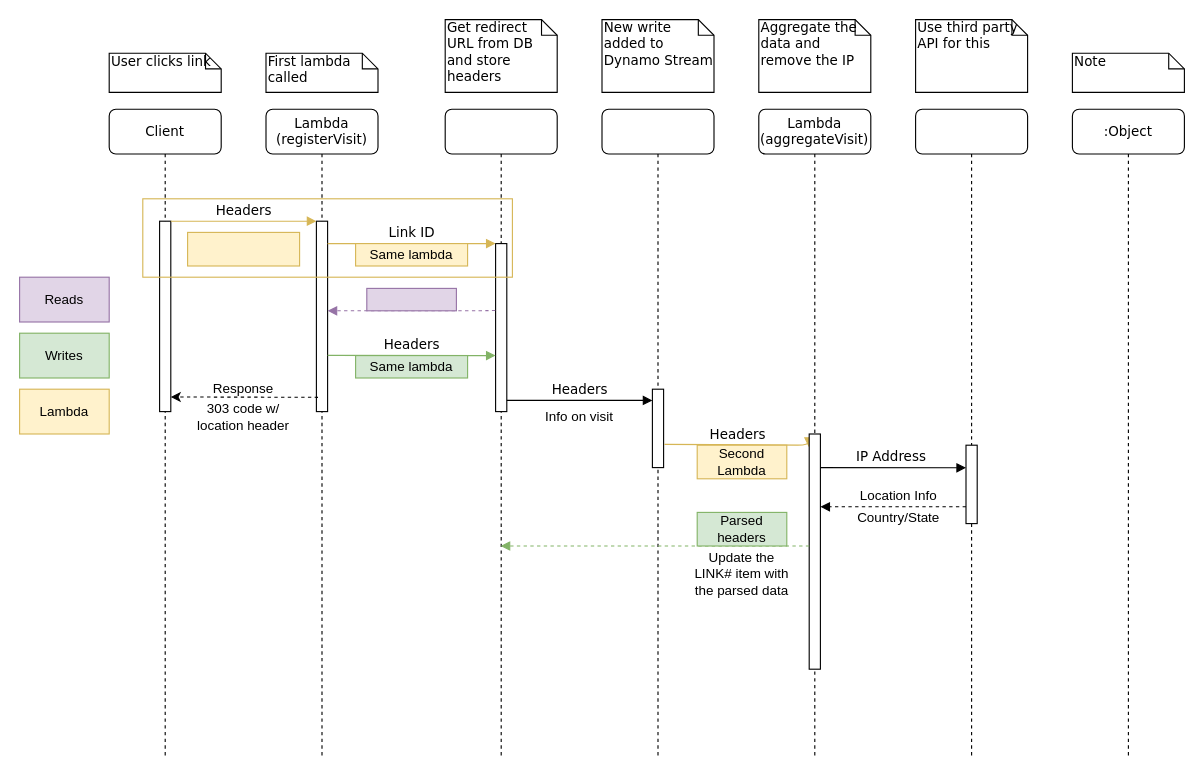
The diagram is 1204 pixels wide and 778 high, and some of its shapes have lost their labels. The shapes that lost their labels are listed below. From the top down, each one's centre as x and y in pixels, then its label:
At [243,248]: "Lambda via API Gateway".
At [411,299]: "Redirect URL".
At [500,433]: "DynamoDB".
At [657,433]: "DynamoDB Stream".
At [971,433]: "Get IP Info".
